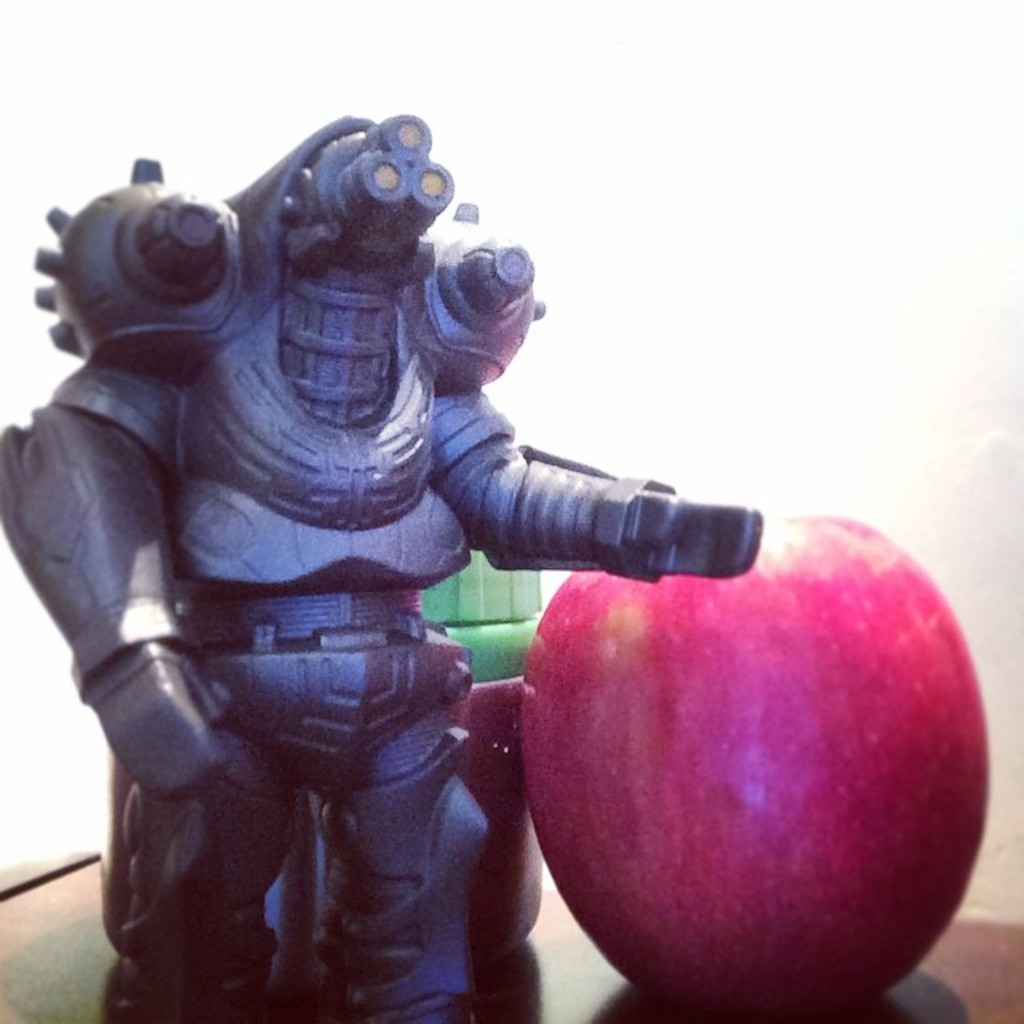Apple: (531, 499, 995, 1024)
